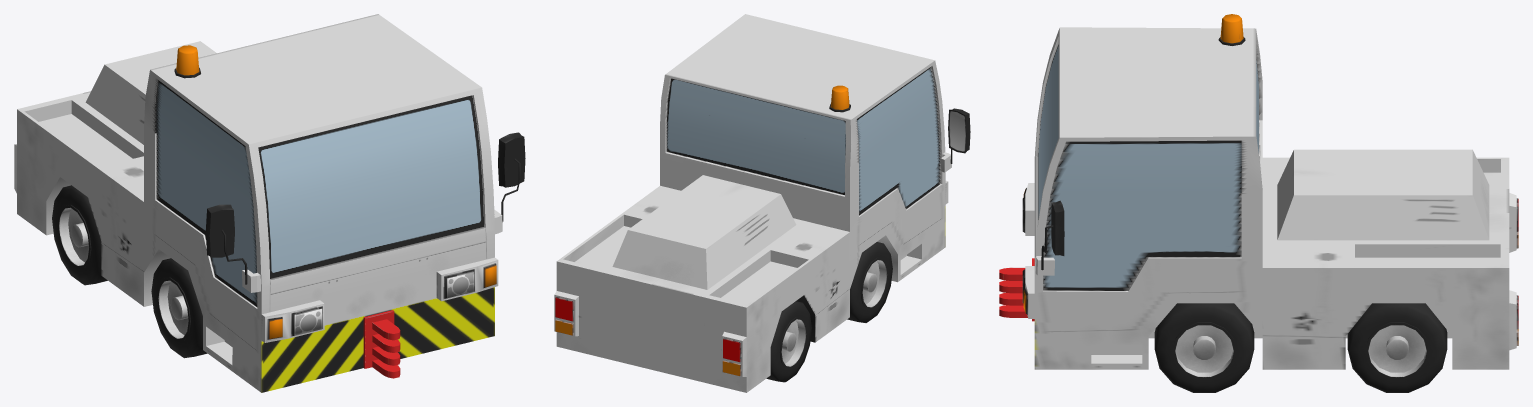
The model's file is airport_truck.glb.
The picture shows the model from 3 angles, left to right: view 1: azimuth 30°, elevation 25°; view 2: azimuth 150°, elevation 25°; view 3: azimuth 270°, elevation 25°; orthographic projection. The views are drawn at different scales.
Parts seen in each view (by area): view 1: Cube, Circle.001, Circle.002, Cube.002, Plane, Circle, Cube.001; view 2: Cube, Circle.001, Circle.002, Cube.002, Circle; view 3: Cube, Circle.001, Circle.002, Plane, Cube.002, Circle.
Part boxes in pixels (x1,y1,x2,y2): Cube: (14,14,498,392); Circle.001: (151,258,207,358); Circle.002: (52,185,107,285); Cube.002: (205,132,525,257); Plane: (363,310,400,378); Circle: (174,45,200,78); Cube.001: (242,209,502,292); Cube: (554,14,948,392); Circle.001: (847,242,892,322); Circle.002: (766,301,811,382); Cube.002: (948,108,970,153); Circle: (829,85,850,112); Cube: (1022,27,1518,369); Circle.001: (1154,303,1254,392); Circle.002: (1347,303,1447,392); Plane: (999,258,1034,321); Cube.002: (1051,200,1064,255); Circle: (1218,14,1245,45).
Bounding box in the file's own units: 2.27 × 1.99 × 3.34.
1 material, 1 textured.
